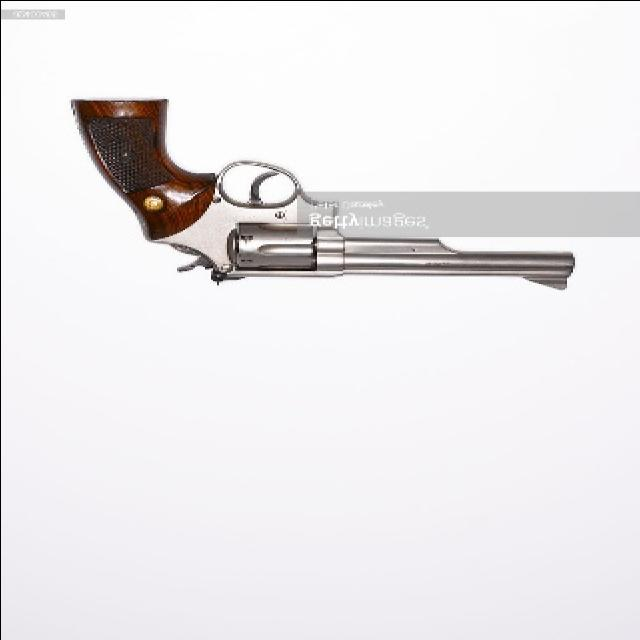handgun: (79, 96, 583, 293)
